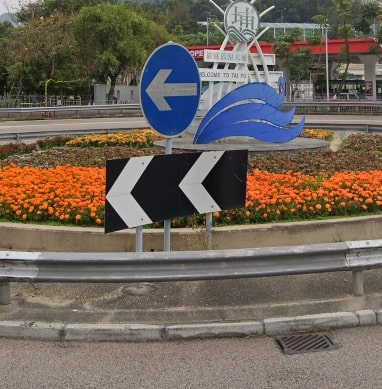Turn Left: (134, 45, 201, 134)
Turn Left(quick): (101, 145, 249, 237)
